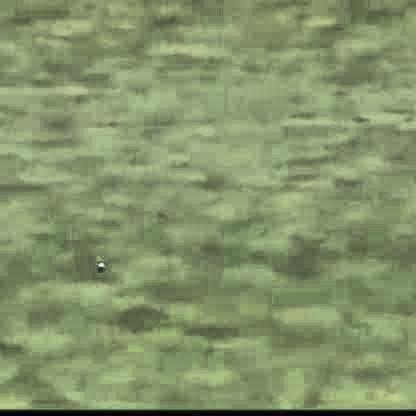golfball: (93, 261, 104, 271)
